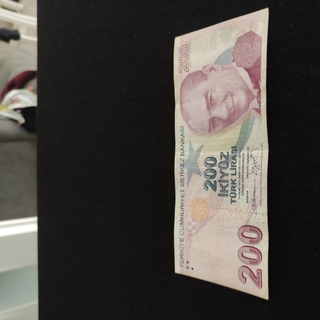200TLFront: (172, 6, 269, 300)
